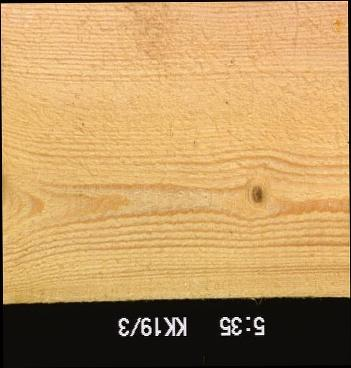sound_knot: (249, 184, 264, 205)
